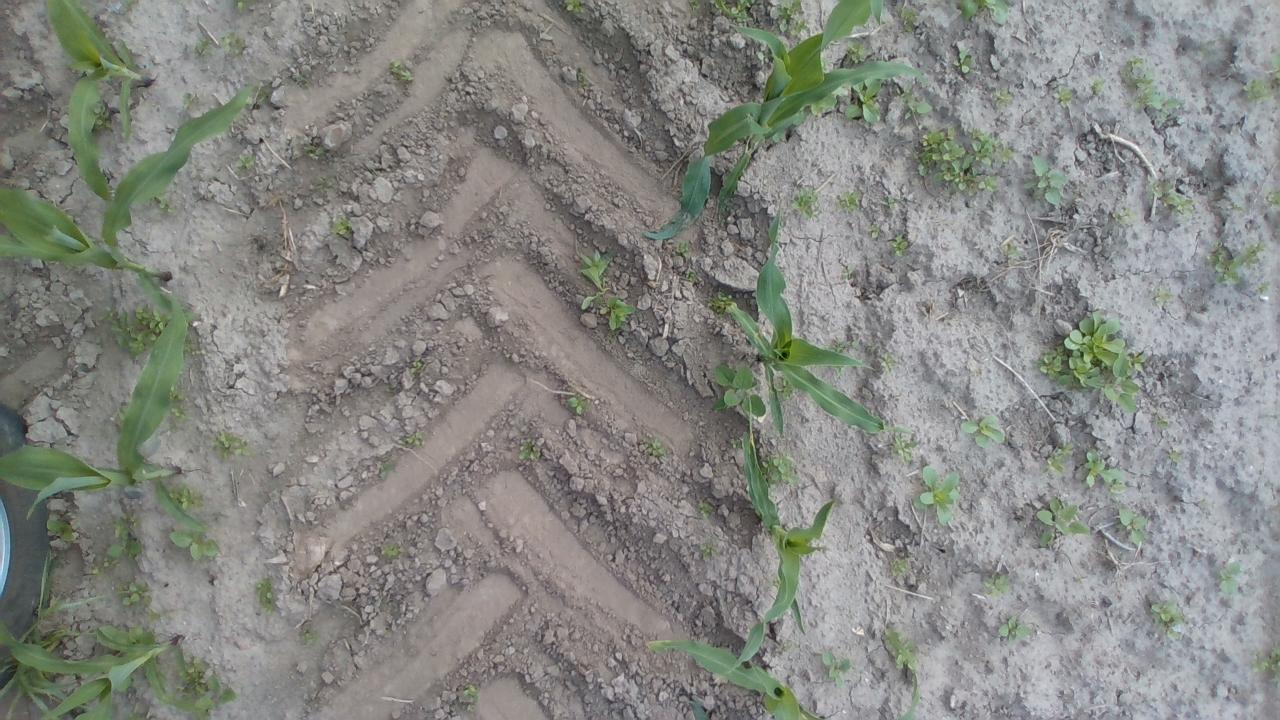Maize: (641, 2, 935, 241), (2, 79, 260, 290), (0, 294, 187, 535), (722, 214, 916, 438), (722, 428, 836, 688), (42, 1, 155, 204), (651, 639, 921, 719), (3, 630, 182, 720)
Weeds: (1038, 310, 1144, 424), (916, 130, 1008, 196), (572, 250, 636, 330), (1206, 236, 1278, 306), (1120, 52, 1182, 120), (708, 358, 768, 423), (1030, 494, 1092, 554), (914, 459, 964, 530), (102, 306, 172, 350), (1023, 153, 1072, 215), (1244, 50, 1280, 118), (1146, 174, 1194, 223), (668, 235, 707, 293), (952, 413, 1013, 448), (1082, 446, 1132, 488), (760, 447, 810, 488), (171, 527, 229, 562), (842, 96, 896, 133), (107, 522, 149, 569), (877, 627, 921, 668), (992, 614, 1044, 648), (770, 1, 814, 40), (211, 30, 251, 72), (1215, 556, 1248, 606), (1112, 507, 1152, 548), (171, 484, 217, 516), (961, 0, 1014, 26), (716, 0, 758, 32), (634, 431, 671, 467), (1148, 598, 1186, 632), (794, 185, 829, 221), (1257, 635, 1280, 686), (693, 533, 724, 570), (517, 432, 547, 470), (387, 54, 415, 94), (1052, 80, 1079, 121), (1041, 440, 1072, 475), (563, 385, 593, 421), (820, 652, 850, 688), (210, 432, 248, 460), (123, 584, 163, 610), (185, 666, 229, 688), (250, 585, 280, 617), (301, 133, 331, 164), (329, 214, 356, 248), (980, 572, 1015, 598), (380, 536, 408, 568), (837, 186, 867, 215), (460, 684, 485, 718), (234, 147, 260, 178), (991, 80, 1016, 112), (954, 52, 978, 85), (400, 430, 432, 454), (692, 497, 721, 523), (1113, 202, 1136, 234), (1084, 72, 1110, 100), (372, 452, 397, 480), (880, 191, 905, 215), (300, 624, 324, 646), (890, 559, 916, 577), (406, 355, 428, 375), (564, 0, 586, 16), (866, 222, 882, 244), (893, 240, 910, 260)
